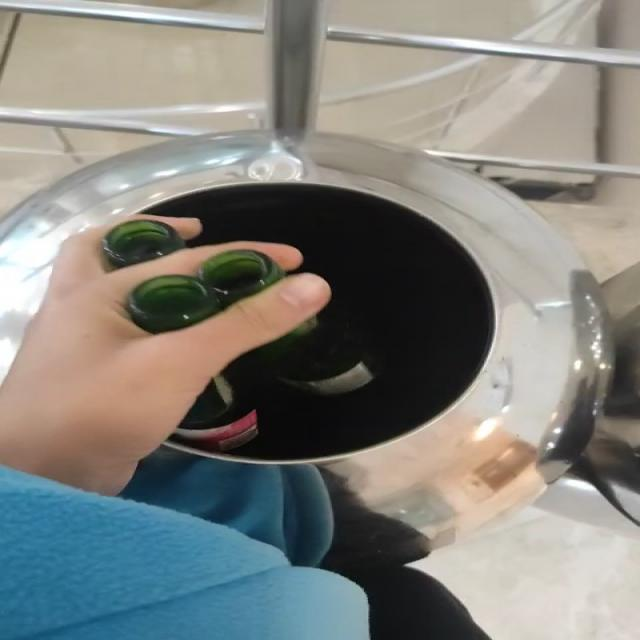glass: (127, 250, 287, 333), (247, 313, 376, 396), (172, 375, 257, 452), (104, 220, 184, 268)
